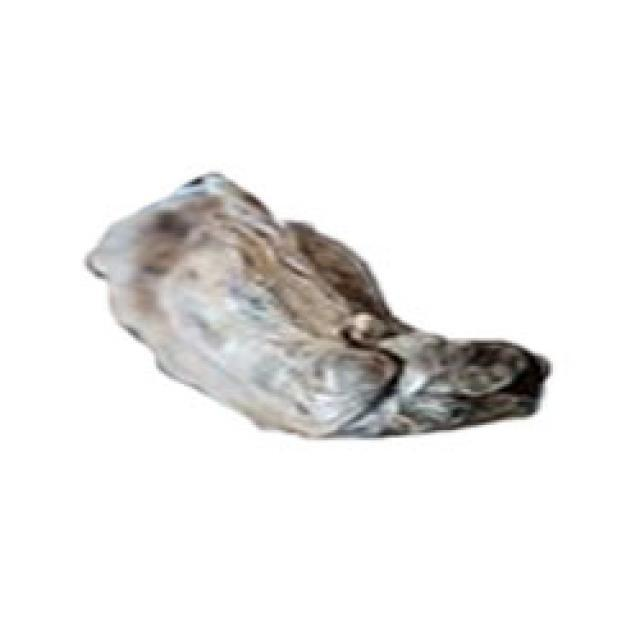Oyster- Indeterminate: (83, 173, 552, 443)
